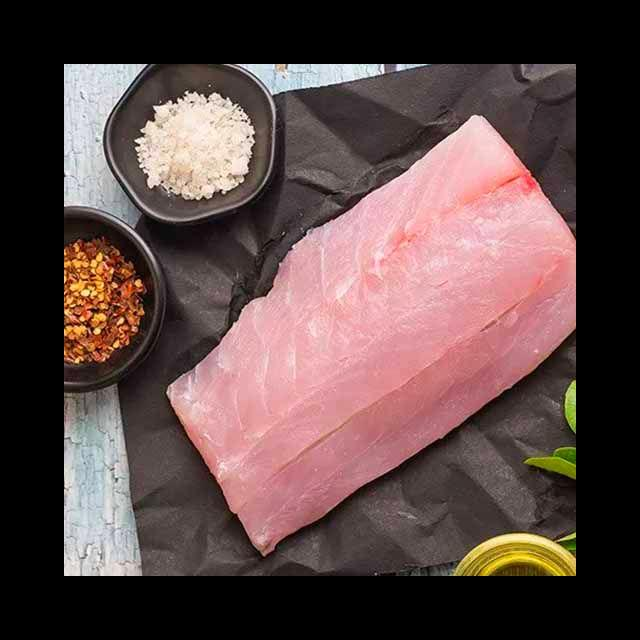fish: (161, 103, 576, 569)
